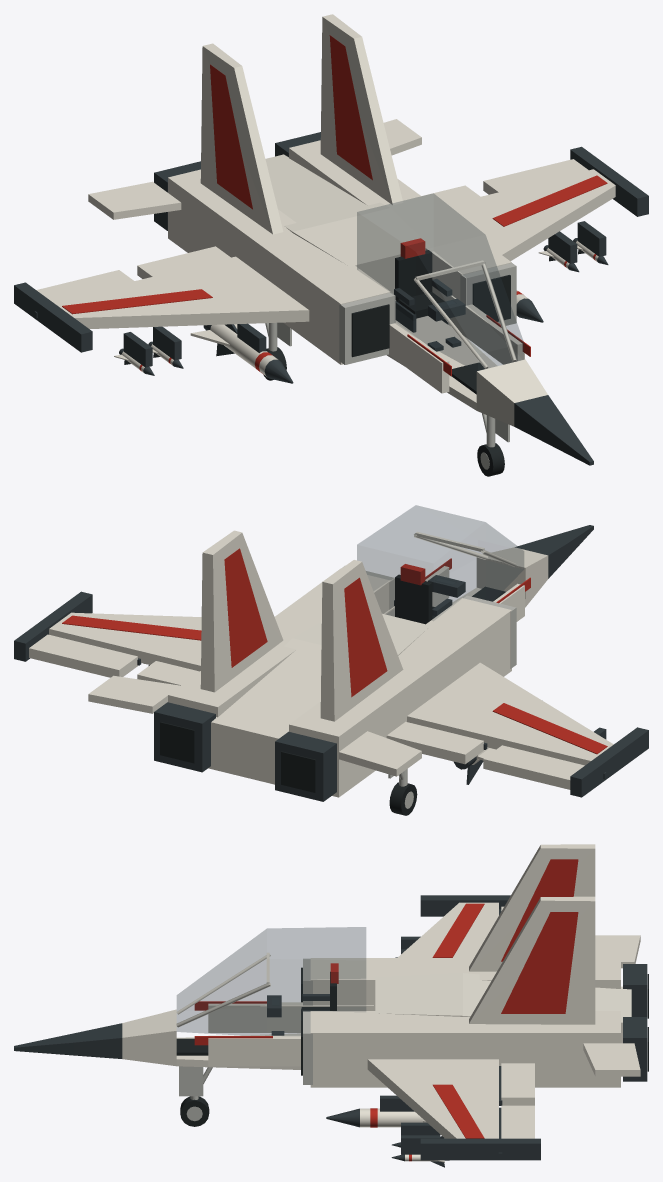
3 renders of one model, top to bottom at view 1: azimuth 30°, elevation 25°; view 2: azimuth 150°, elevation 25°; view 3: azimuth 270°, elevation 25°, orthographic. The views are drawn at different scales.
Parts seen in each view (by area): view 1: jet-b-fleet-armor, jet-b-fleet-glass, jet-b-fleet-machine, jet-b-fleet-red, crew-chair-pilot-painted, jet-b-fleet-rubber, jet-b-fleet-edge, elevator-left-fleet-armor, store-left-large-painted, aileron-right-painted, flap-left-painted, aileron-left-painted (+3 smaller); view 2: jet-b-fleet-armor, jet-b-fleet-glass, jet-b-fleet-machine, jet-b-fleet-red, aileron-right-painted, crew-chair-pilot-painted, jet-b-fleet-rubber, aileron-left-painted, flap-left-painted, elevator-left-fleet-armor, elevator-right-fleet-armor, flap-right-painted (+3 smaller); view 3: jet-b-fleet-armor, jet-b-fleet-glass, jet-b-fleet-machine, jet-b-fleet-red, elevator-right-fleet-armor, flap-right-painted, store-right-large-painted, aileron-right-painted, crew-chair-pilot-painted, elevator-left-fleet-armor, jet-b-fleet-edge, landing-gear-nose-fleet-edge (+2 smaller).
Part boxes in pixels (x1,y1,x2,y2): jet-b-fleet-armor: [52, 14, 615, 426]; jet-b-fleet-glass: [357, 193, 523, 371]; jet-b-fleet-machine: [14, 132, 648, 465]; jet-b-fleet-red: [62, 35, 607, 375]; crew-chair-pilot-painted: [394, 238, 465, 351]; jet-b-fleet-rubber: [351, 275, 510, 394]; jet-b-fleet-edge: [339, 263, 516, 364]; elevator-left-fleet-armor: [88, 181, 181, 219]; store-left-large-painted: [190, 324, 293, 383]; aileron-right-painted: [483, 159, 588, 194]; flap-left-painted: [137, 246, 230, 278]; aileron-left-painted: [34, 270, 134, 318]; jet-b-fleet-armor: [49, 530, 613, 797]; jet-b-fleet-glass: [357, 505, 523, 623]; jet-b-fleet-machine: [14, 525, 648, 801]; jet-b-fleet-red: [62, 548, 607, 754]; aileron-right-painted: [29, 634, 141, 677]; crew-chair-pilot-painted: [394, 564, 465, 624]; jet-b-fleet-rubber: [160, 586, 505, 792]; aileron-left-painted: [483, 745, 606, 789]; flap-left-painted: [386, 721, 487, 764]; elevator-left-fleet-armor: [339, 731, 421, 776]; elevator-right-fleet-armor: [88, 675, 179, 713]; flap-right-painted: [137, 661, 199, 685]; jet-b-fleet-armor: [122, 844, 631, 1138]; jet-b-fleet-glass: [177, 927, 365, 1035]; jet-b-fleet-machine: [14, 895, 647, 1160]; jet-b-fleet-red: [194, 859, 578, 1138]; elevator-right-fleet-armor: [583, 1043, 640, 1076]; flap-right-painted: [499, 1063, 534, 1105]; store-right-large-painted: [326, 1108, 440, 1134]; aileron-right-painted: [498, 1105, 534, 1158]; crew-chair-pilot-painted: [267, 963, 338, 1035]; elevator-left-fleet-armor: [595, 935, 640, 968]; jet-b-fleet-edge: [303, 958, 312, 1084]; landing-gear-nose-fleet-edge: [179, 1066, 212, 1099].
Bounding box in the file's own units: 50.89 × 23.94 × 54.74.
